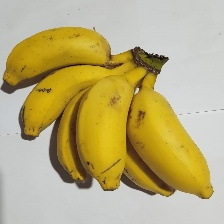banana: (54, 42, 190, 195)
